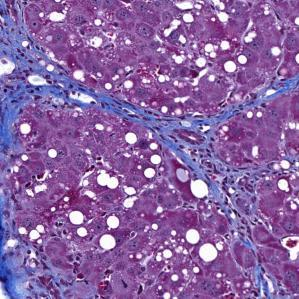fibrosis: (0, 177, 66, 299), (120, 102, 251, 154), (192, 164, 273, 232), (0, 0, 47, 116)
